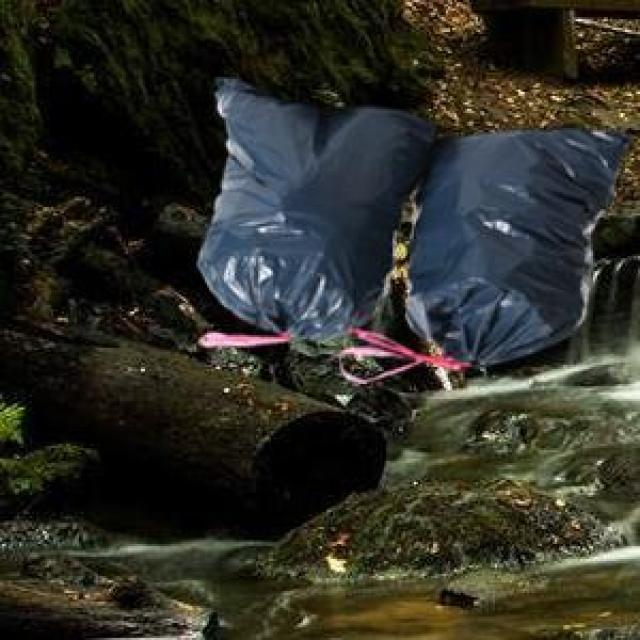waste: (200, 92, 431, 337)
